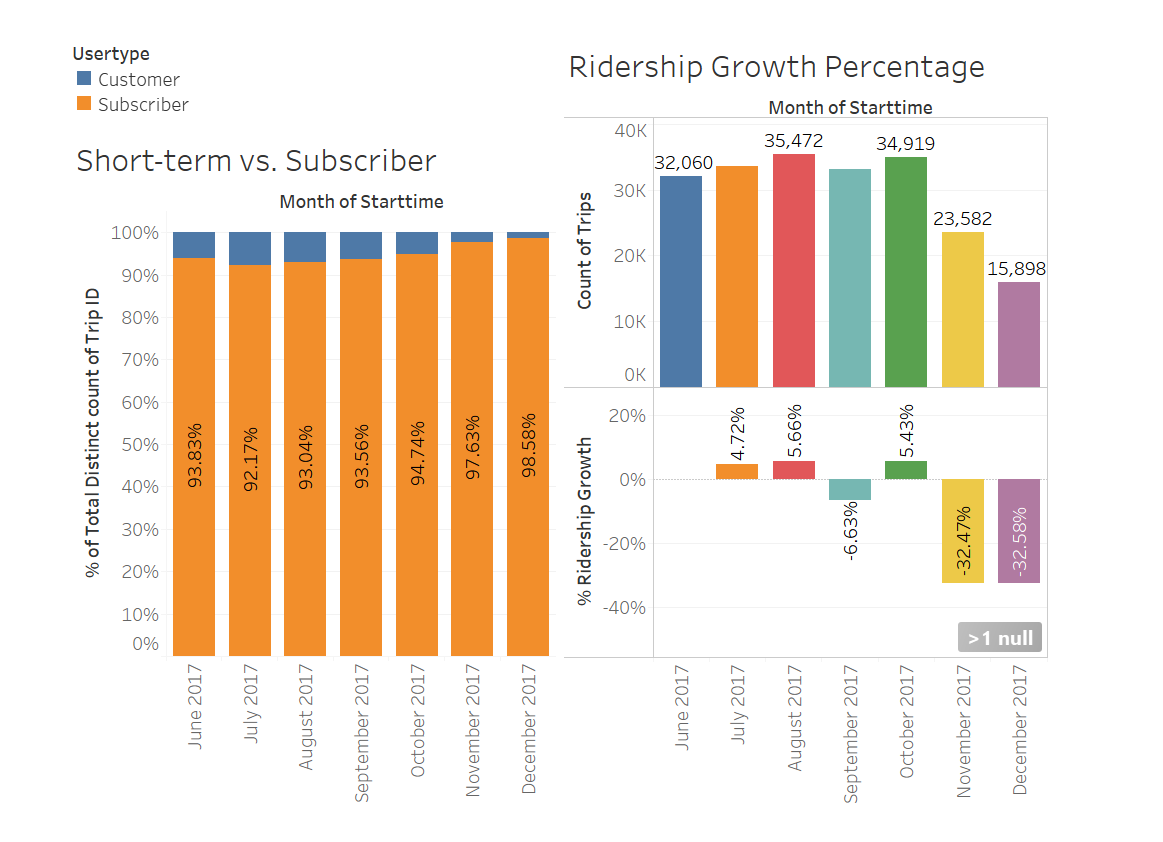

The page's visual inventory and layout, read from the dashboard file:
{"tool":"tableau","page":{"name":"Overall","canvas":[1000,800],"ordinal":5},"visuals":[{"type":"legend","title":"UserTypes","param":"[federated.0mfvrpo1y0u3fp18kqn220kc64p0].[none:usertype:nk]","box":[8,8,492,94]},{"type":"worksheet","title":"% Growth","mark":"Bar","rows":["TripID","TripID"],"cols":["starttime"],"box":[500,8,492,784]},{"type":"worksheet","title":"UserTypes","mark":"Bar","cols":["starttime"],"box":[8,102,492,690]}]}

Visuals, with their boxes on the page's 1000x800 design canvas (x1, y1, x2, y2). These are canvas units, not pixel positions in the 1163x842 screenshot, which may show the page scaled, cropped or inside an application window:
"UserTypes" legend: left=8, top=8, right=500, bottom=102
"% Growth" worksheet (Bar marks): left=500, top=8, right=992, bottom=792
"UserTypes" worksheet (Bar marks): left=8, top=102, right=500, bottom=792
